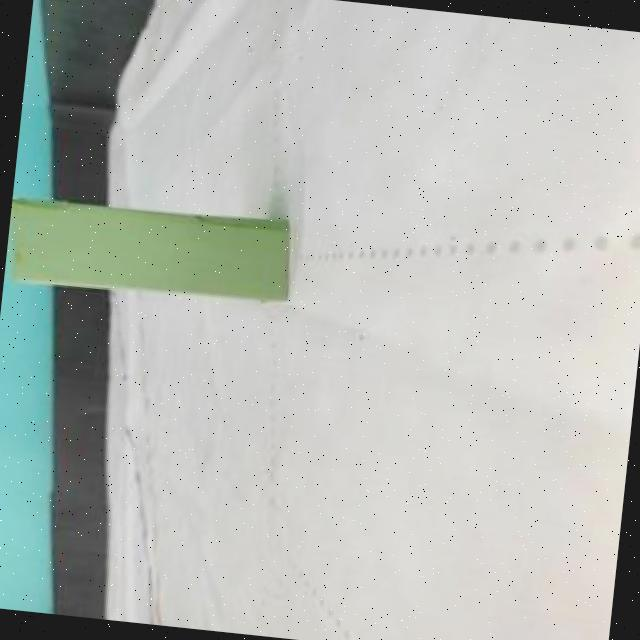greenbox: (4, 193, 296, 310)
